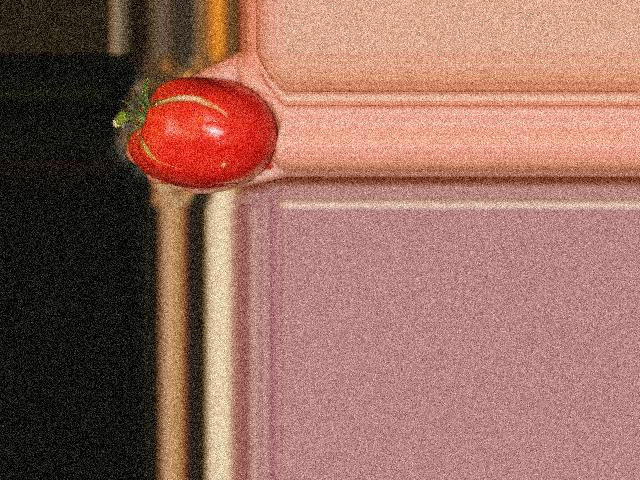tomato: (127, 79, 276, 189)
